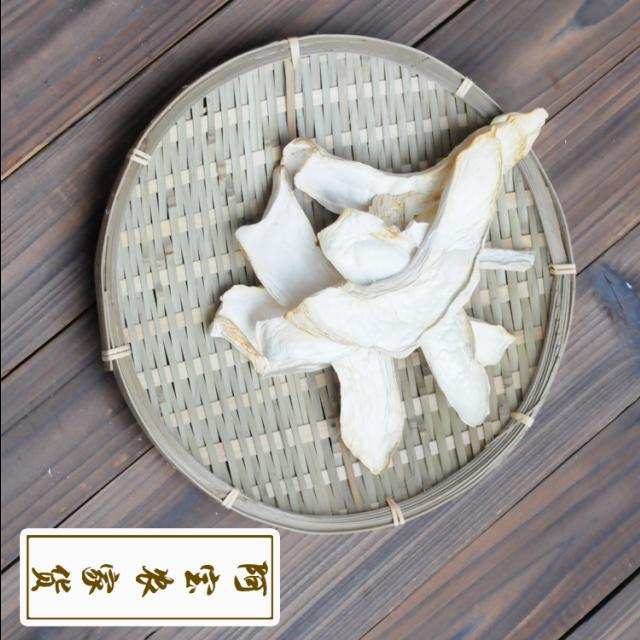Pleurotus eryngii: (213, 107, 549, 475)
